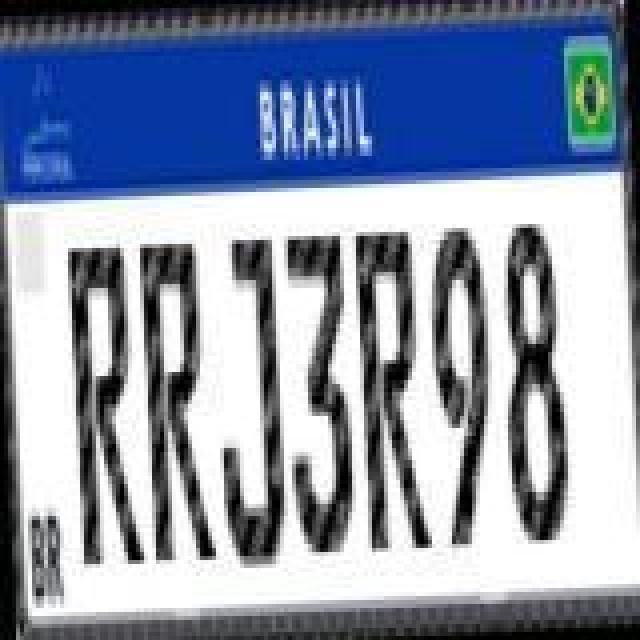3: (274, 230, 358, 562)
8: (496, 214, 576, 546)
9: (424, 218, 504, 550)
J: (206, 232, 290, 568)
R: (134, 238, 218, 570), (64, 242, 144, 574), (352, 226, 432, 558)
